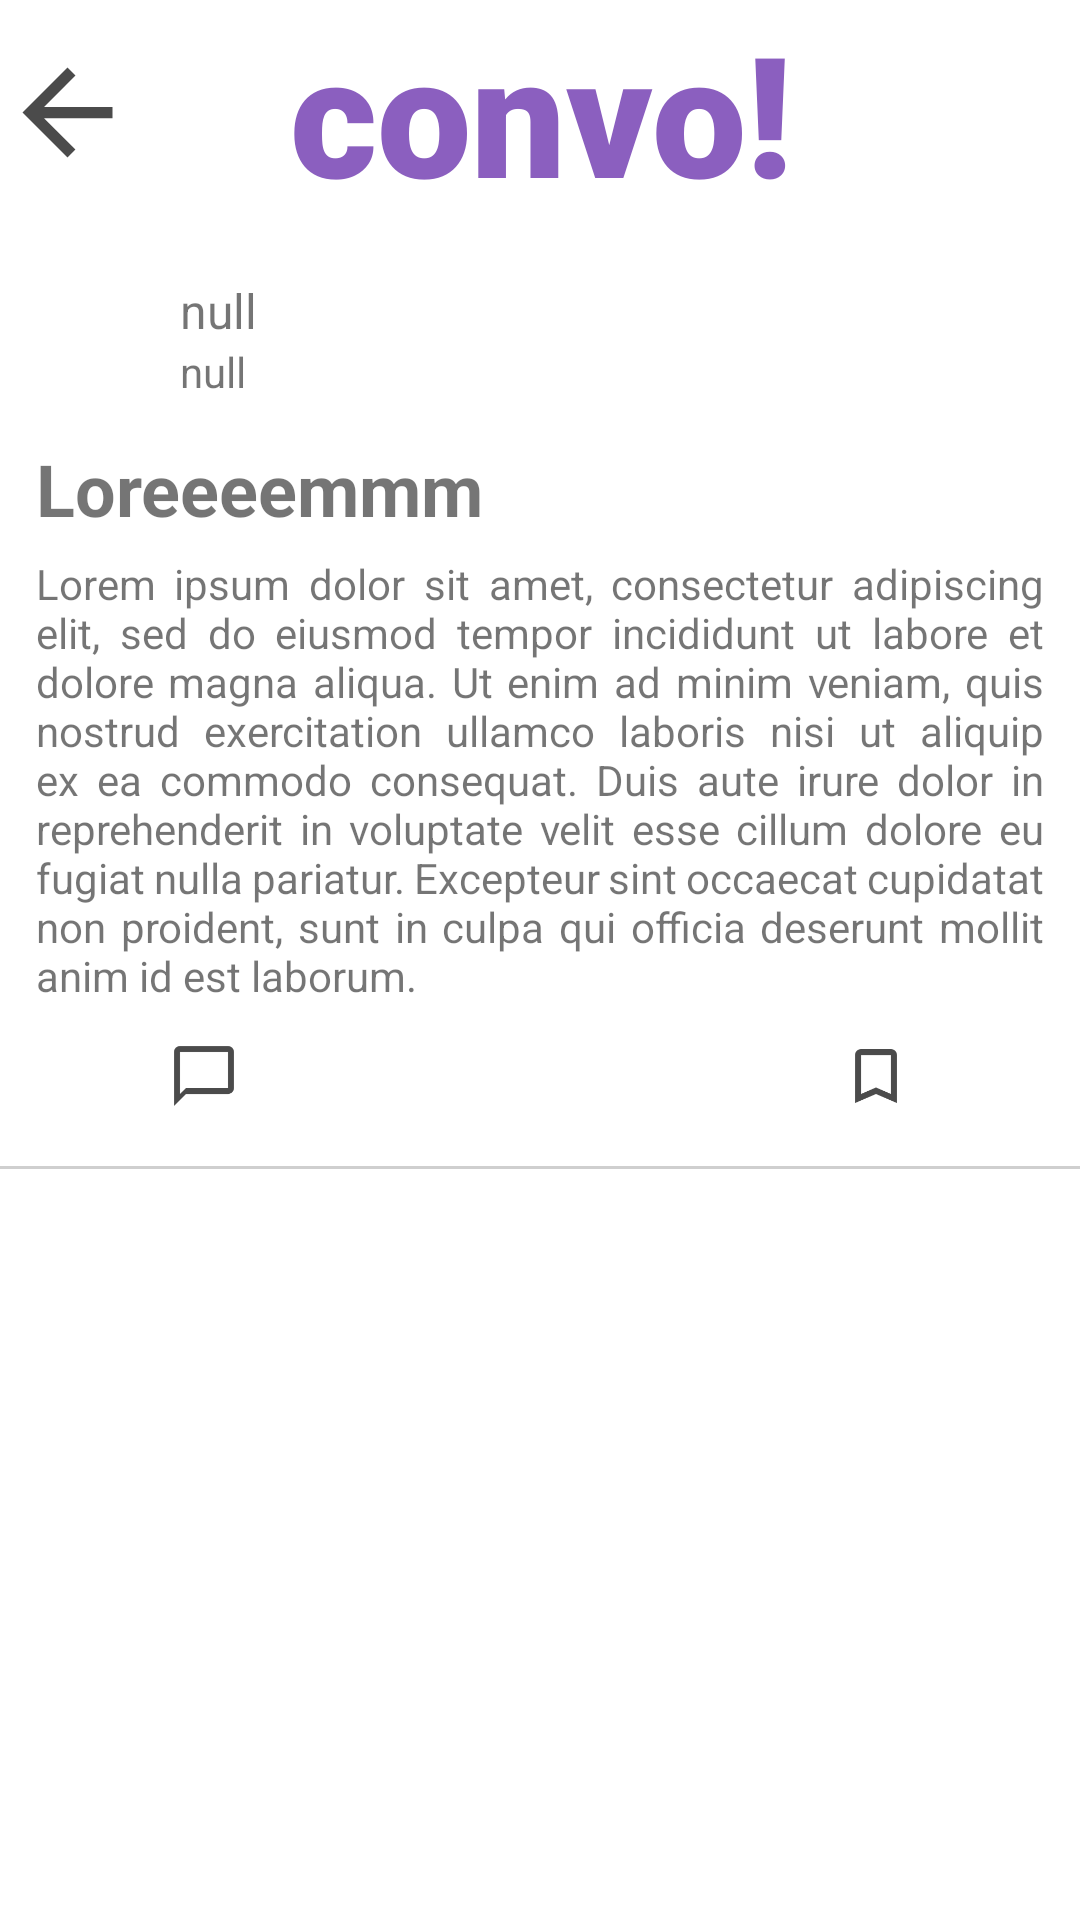

Named icons in this screenshot (1080w x 1920h) and their bounding boxes, (x1, y1, x2, y2):
arrow back: (22, 67, 113, 158)
bookmark border: (855, 1049, 897, 1103)
chat bubble: (174, 1046, 234, 1106)
